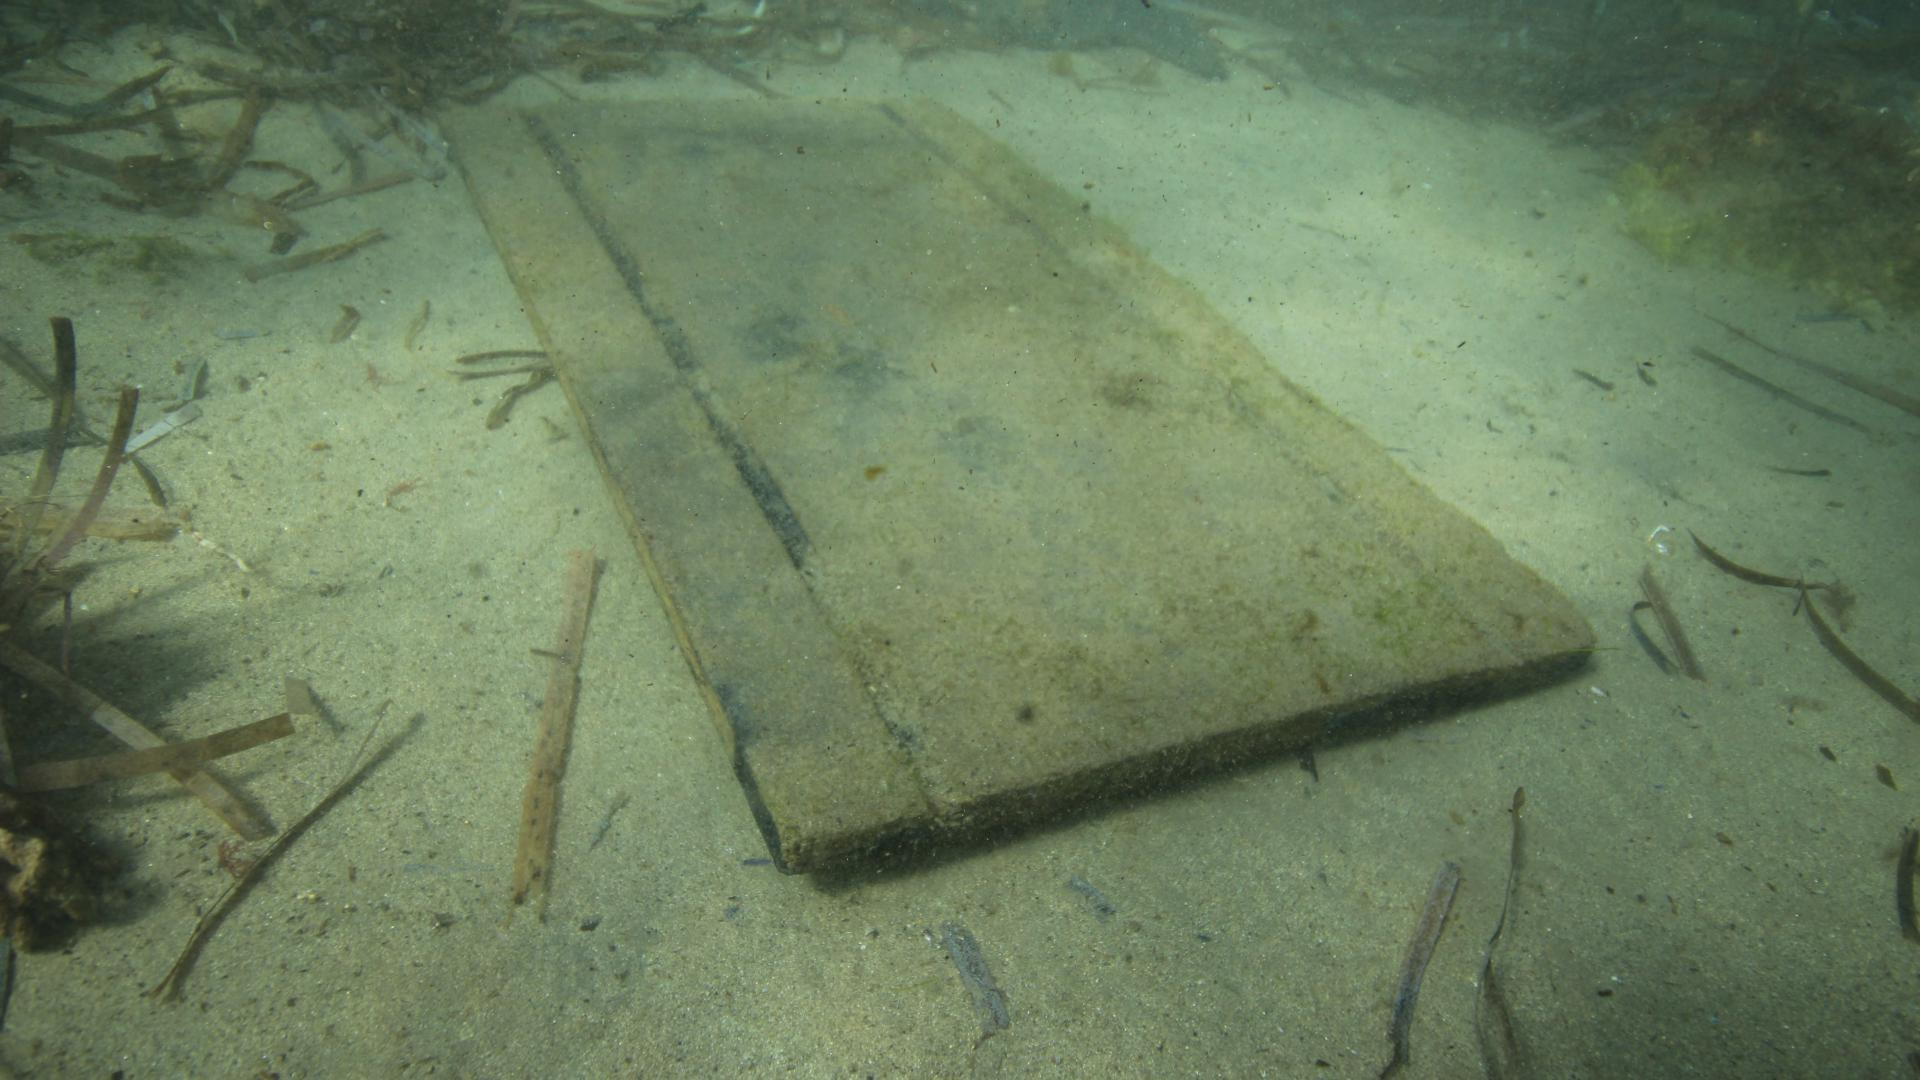wood: (431, 98, 1596, 874)
